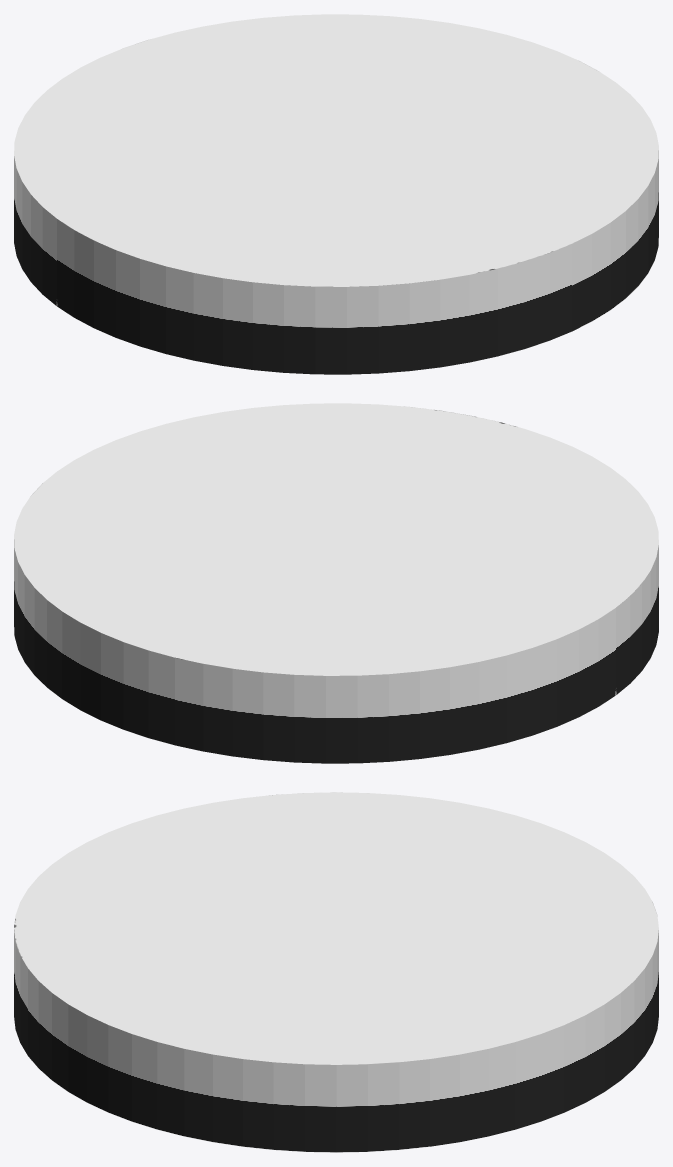
File: Stone.fbx
3 views of the same model, one above another, from view 1: azimuth 30°, elevation 25°; view 2: azimuth 150°, elevation 25°; view 3: azimuth 270°, elevation 25° (orthographic).
Visible parts, largest first — view 1: 円柱.001_円柱.003; view 2: 円柱.001_円柱.003; view 3: 円柱.001_円柱.003.
Part boxes in pixels (box(x1,y1,x2,y2)): 円柱.001_円柱.003: box(14, 14, 658, 374); 円柱.001_円柱.003: box(14, 403, 658, 763); 円柱.001_円柱.003: box(14, 792, 658, 1152).
Bounding box in the file's own units: 400 × 60 × 400.
Materials: 1 (1 with a texture image).
